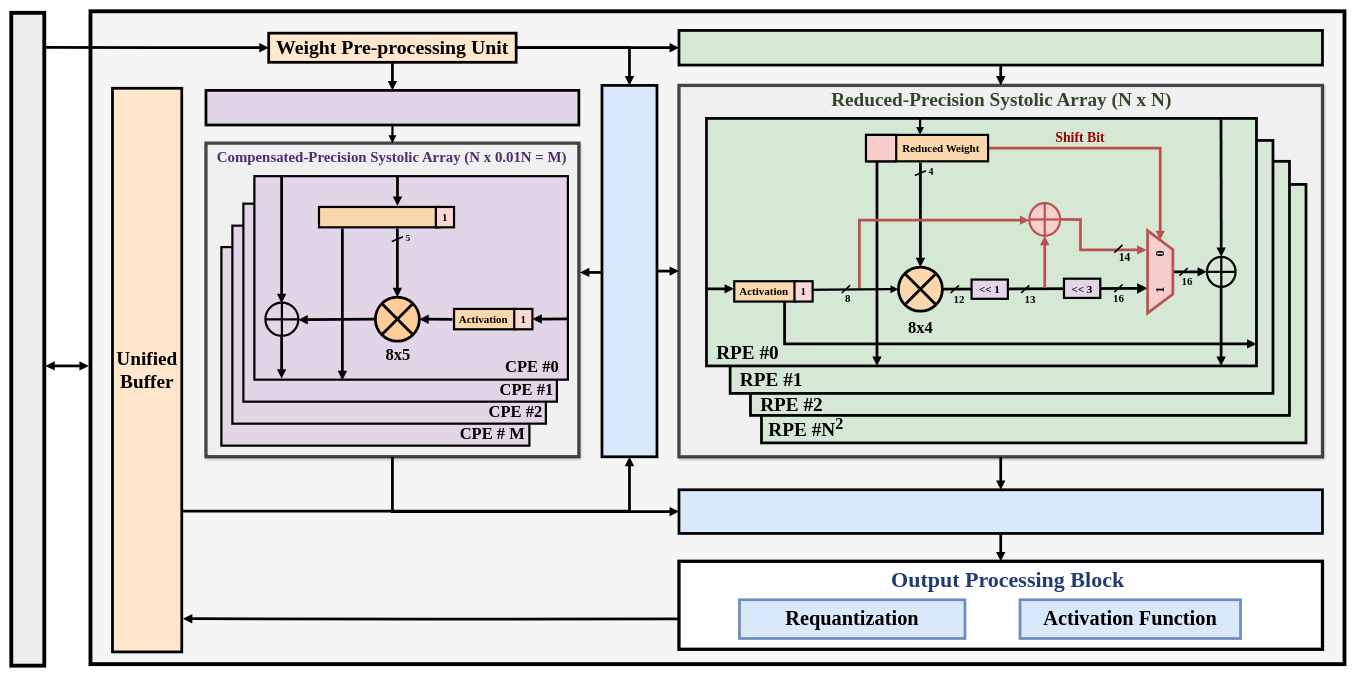
Image size: 1356x677. Some labels were removed from this diagram. Each missing label, with the centre of its shape:
Accumulator: pixel 1000 511
Compensation Memory: pixel 392 107
Compensation Weight: pixel 379 217
Data Setup: pixel 629 271
HOST INTERFACE: pixel 27 339
Shift: pixel 881 148
Weight Memory: pixel 1000 47
